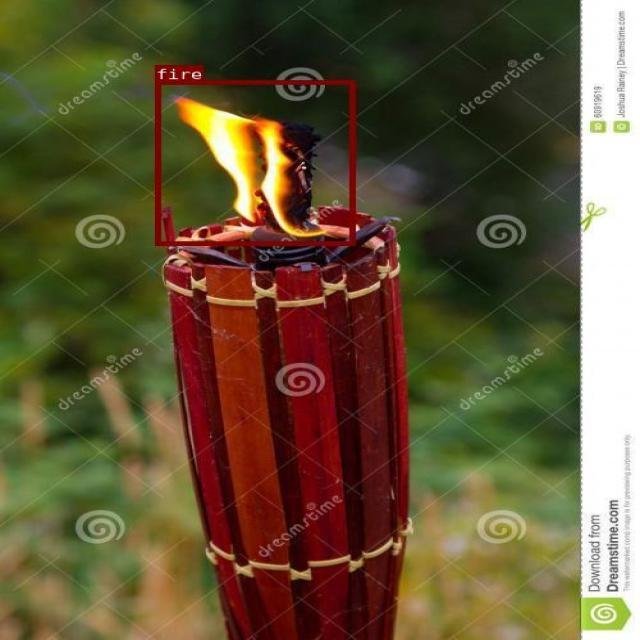fire: (155, 79, 354, 245)
